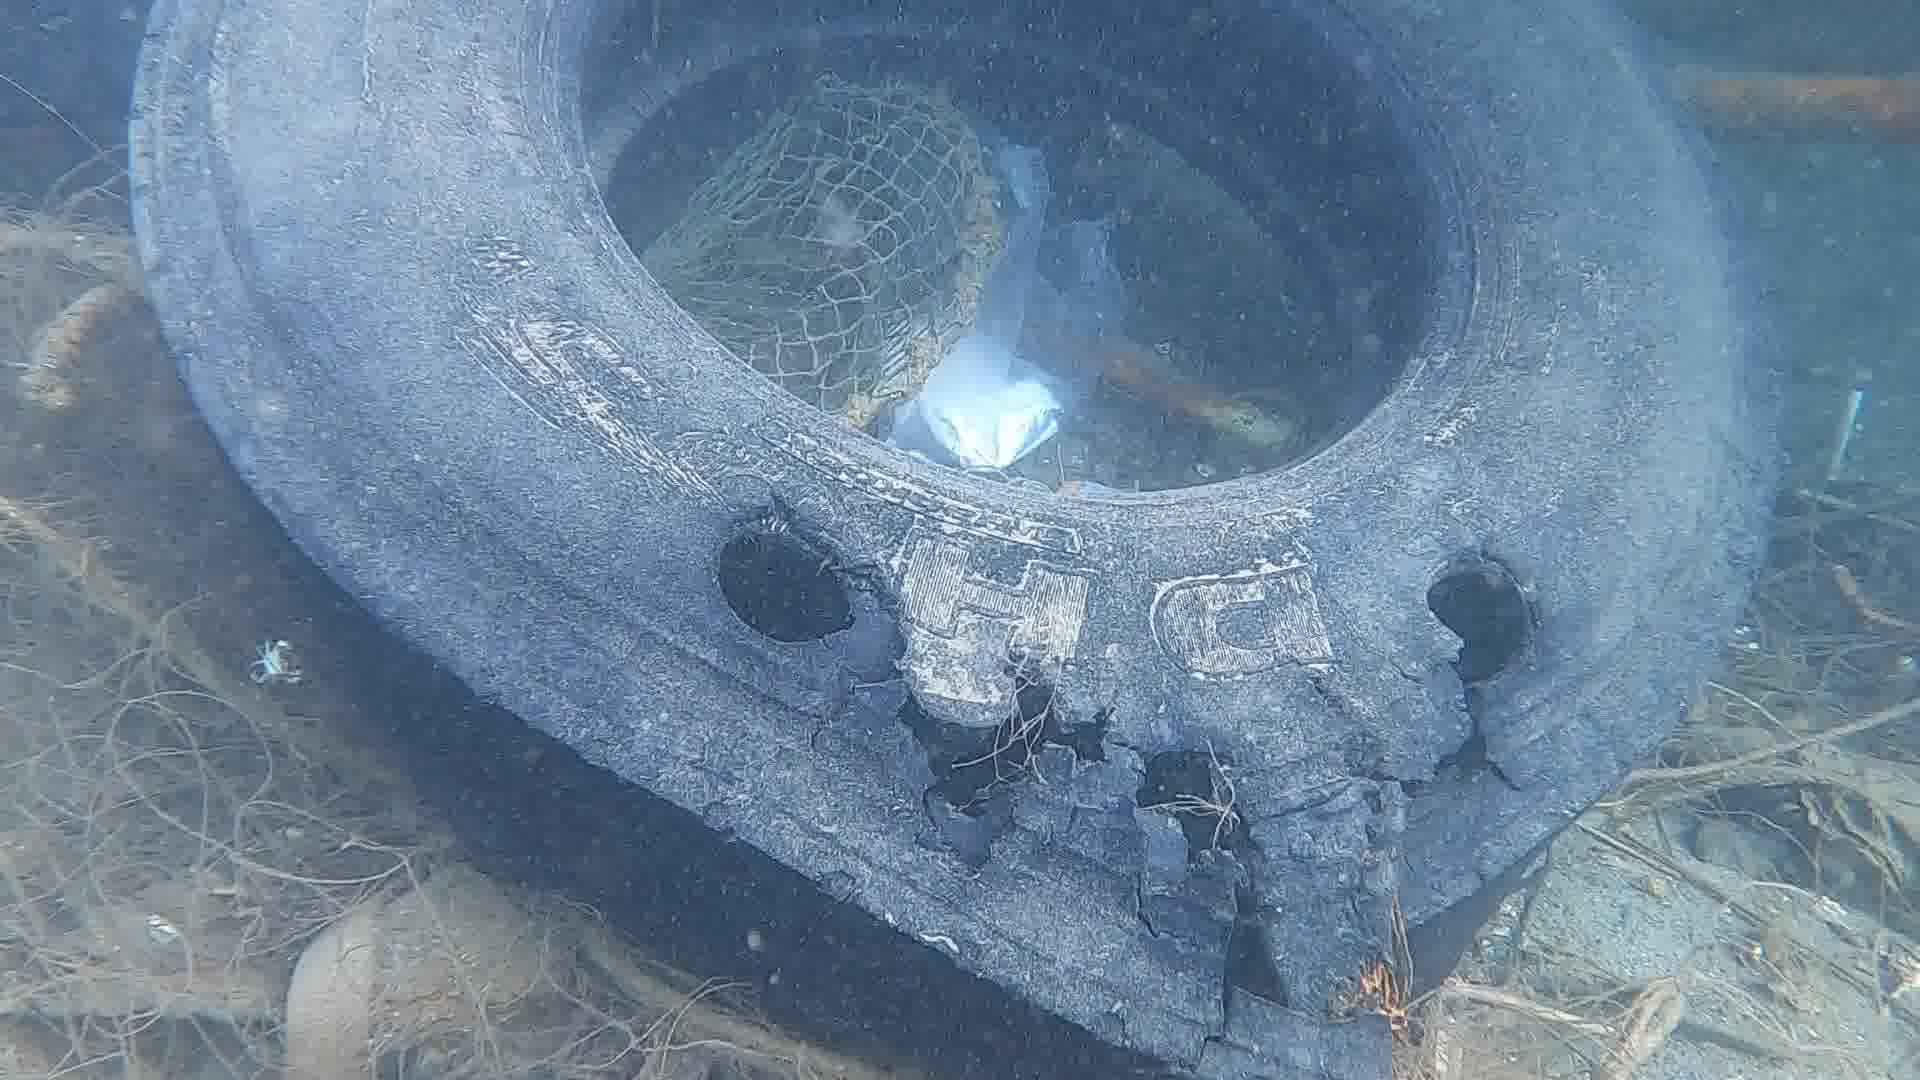fish net: (642, 74, 973, 411)
tire: (127, 0, 1787, 1080)
